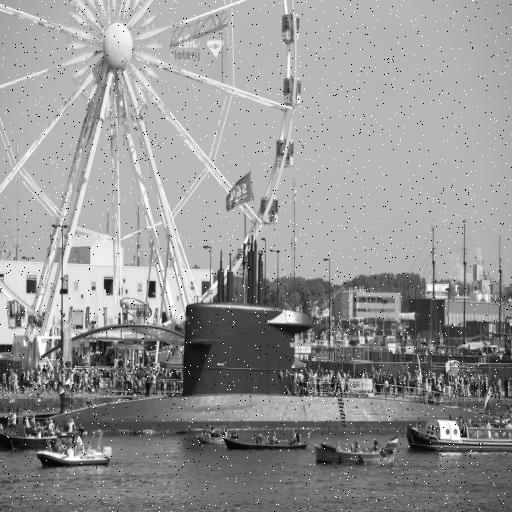submarine: (40, 222, 478, 434)
